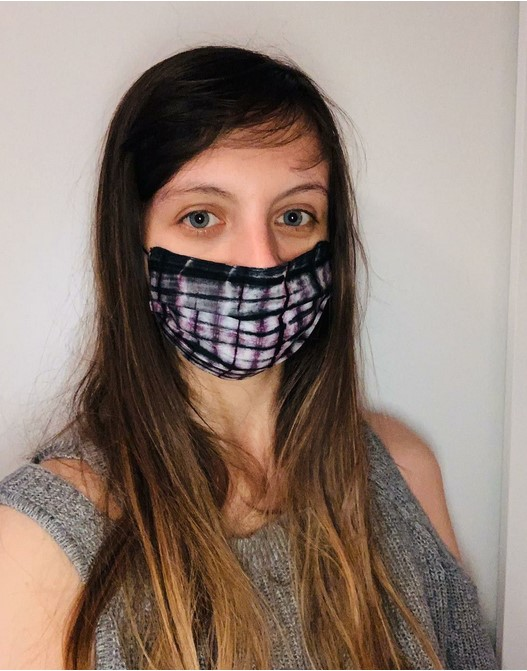face_with_mask: (119, 73, 354, 389)
